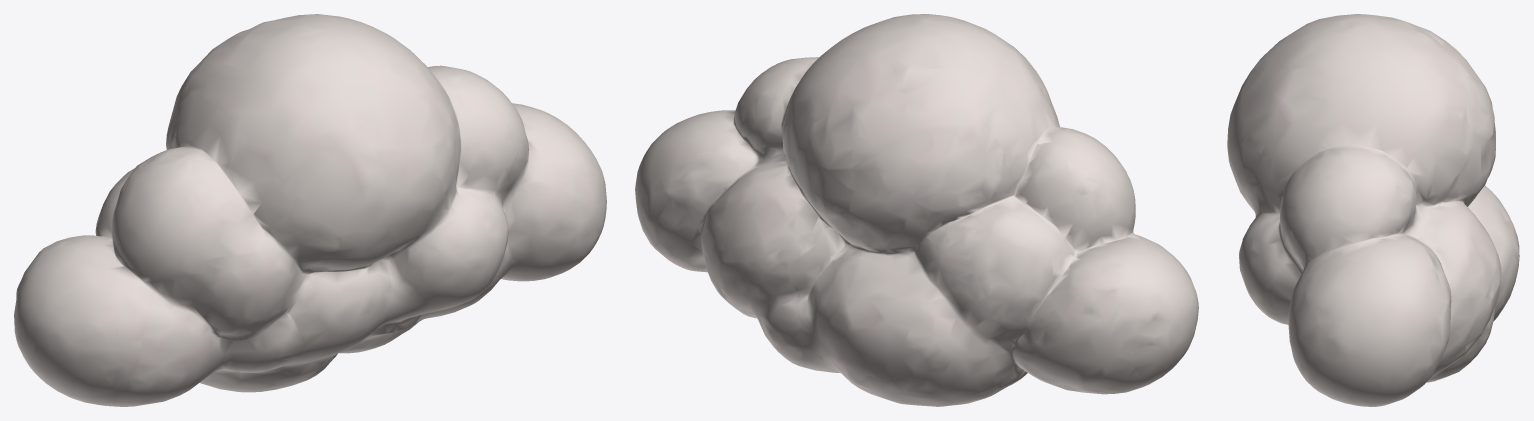
File: fluffy-cloud.glb
3 views of the same model, side by side, from view 1: azimuth 30°, elevation 25°; view 2: azimuth 150°, elevation 25°; view 3: azimuth 270°, elevation 25° (orthographic). The views are drawn at different scales.
Bounding box in the file's own units: 1.9 × 1.16 × 0.9194.
1 material, 1 textured.
